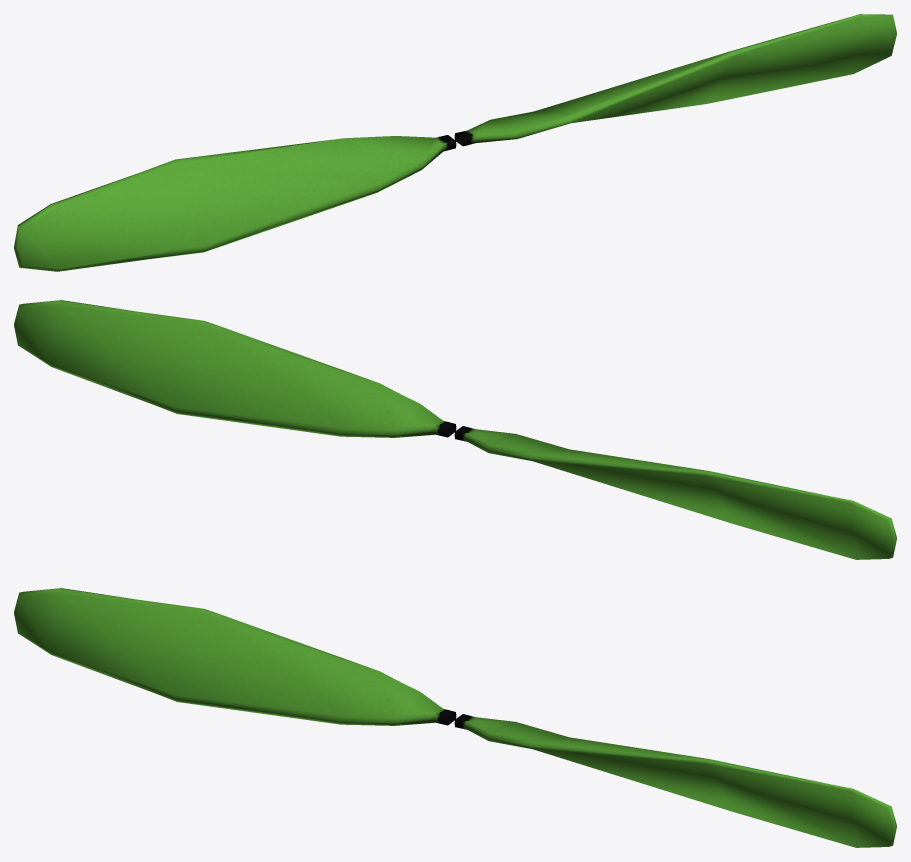
Rendered from PalesAvant.FBX.
The picture shows the model from 3 angles, top to bottom: view 1: azimuth 30°, elevation 25°; view 2: azimuth 150°, elevation 25°; view 3: azimuth 330°, elevation 25°; orthographic projection.
Visible parts, largest first — view 1: PalesAvant; view 2: PalesAvant; view 3: PalesAvant.
Boxes of the visible parts, bbox=[...] form: PalesAvant: bbox=[14, 14, 896, 271]; PalesAvant: bbox=[14, 300, 896, 559]; PalesAvant: bbox=[14, 588, 896, 847].
Size of the model in its own units: 12.15 by 0.9556 by 0.9251.
